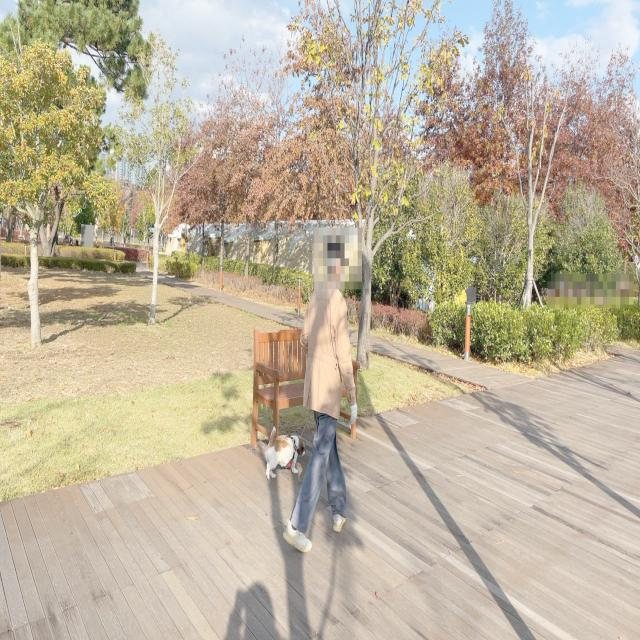Leashed_Dog: (264, 363, 340, 481)
